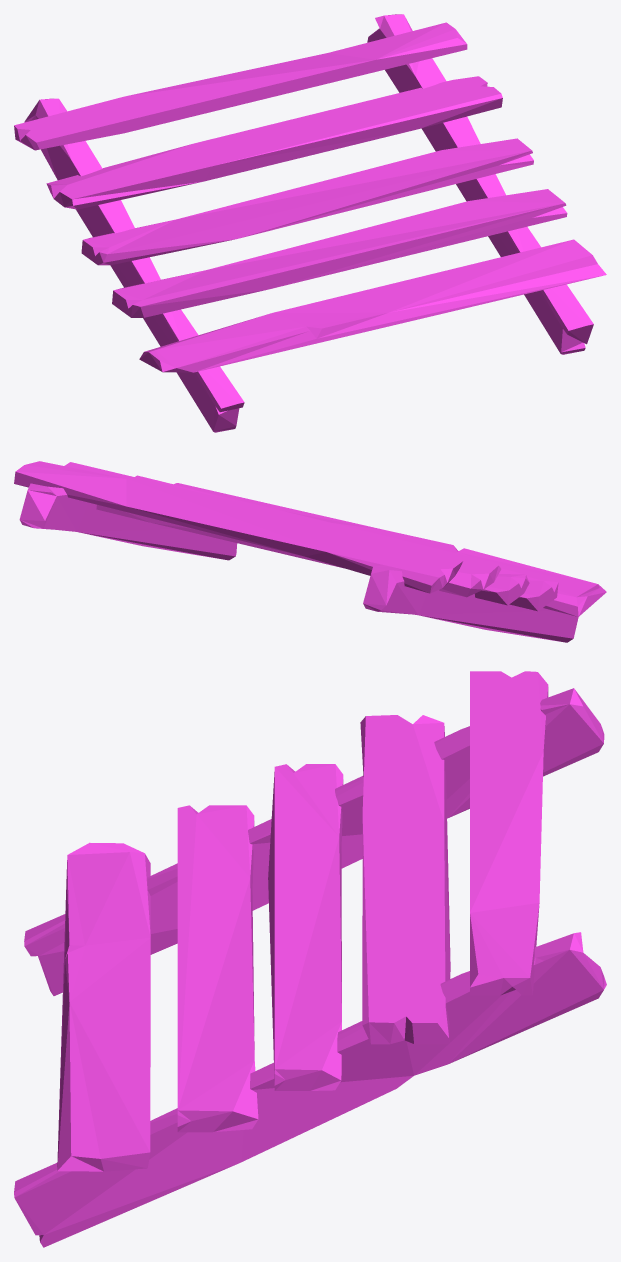
Rendered from SM_Pier_Stairs_Fantasy.fbx.
3 renders of one model, top to bottom at view 1: azimuth 30°, elevation 25°; view 2: azimuth 150°, elevation 25°; view 3: azimuth 270°, elevation 25°, orthographic. The views are drawn at different scales.
Visible parts, largest first — view 1: SM_Pier_Stairs_Fantasy; view 2: SM_Pier_Stairs_Fantasy; view 3: SM_Pier_Stairs_Fantasy.
Boxes of the visible parts, x1,y1,x2,y2 form: SM_Pier_Stairs_Fantasy: [14, 14, 606, 432]; SM_Pier_Stairs_Fantasy: [14, 461, 606, 642]; SM_Pier_Stairs_Fantasy: [14, 671, 606, 1247].
Size of the model in its own units: 3.05 by 1.36 by 2.43.
